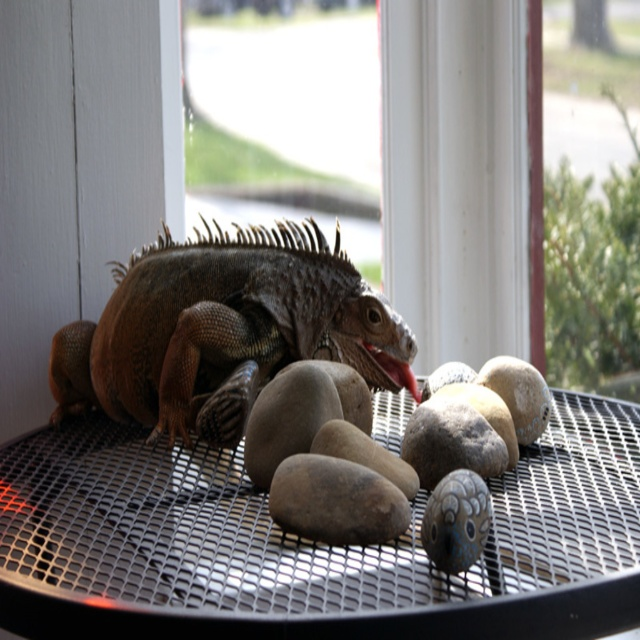Lizard: (65, 214, 432, 482)
